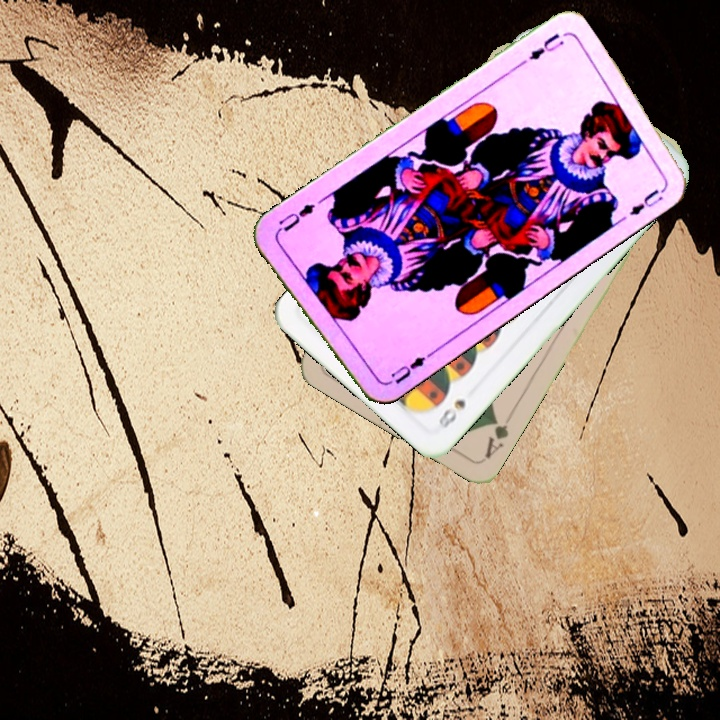EU: (382, 349, 434, 388), (524, 29, 566, 63)
GA: (481, 412, 511, 461)
S8: (434, 395, 469, 432)
